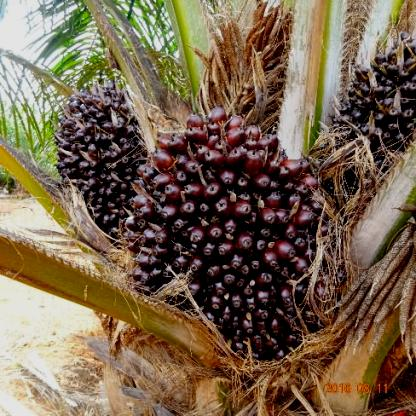1: (138, 106, 334, 351)
palm-oil: (54, 82, 145, 239), (345, 42, 415, 160)
